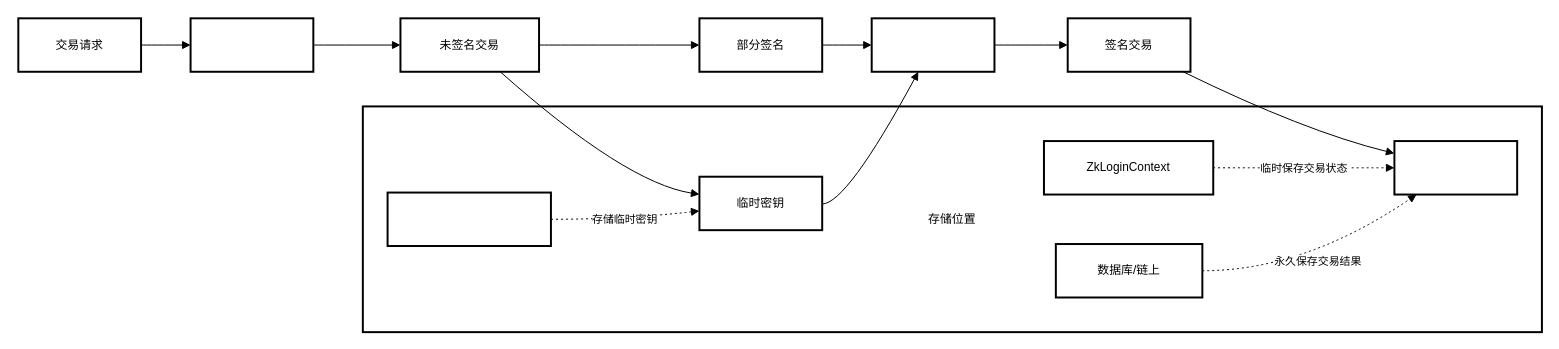
Image size: 1559x349. Some labels were removed from this diagram. Here are the shapes that lost their labels. From the top down, the centre of each, then its label:
At (x=251, y=44): "交易数据".
At (x=932, y=44): "完整签名".
At (x=1455, y=167): "交易结果".
At (x=468, y=219): "SessionStorage".
